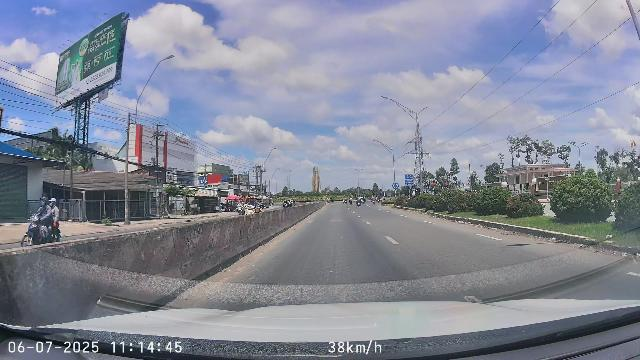303-noi-giao-nhau-chay-theo-vong-xuyen: (392, 182, 399, 189)
